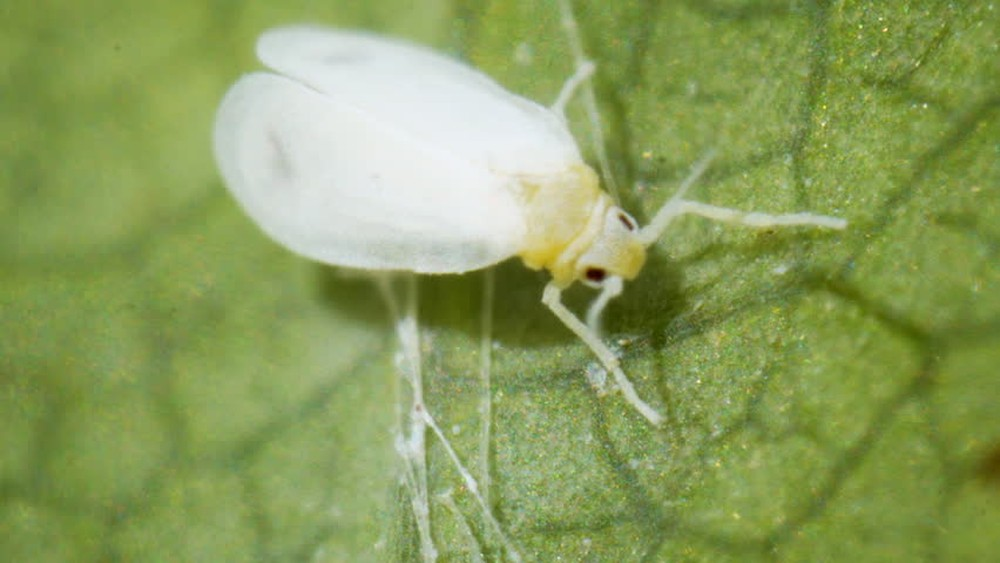Mosca Blanca: (205, 12, 844, 453)
